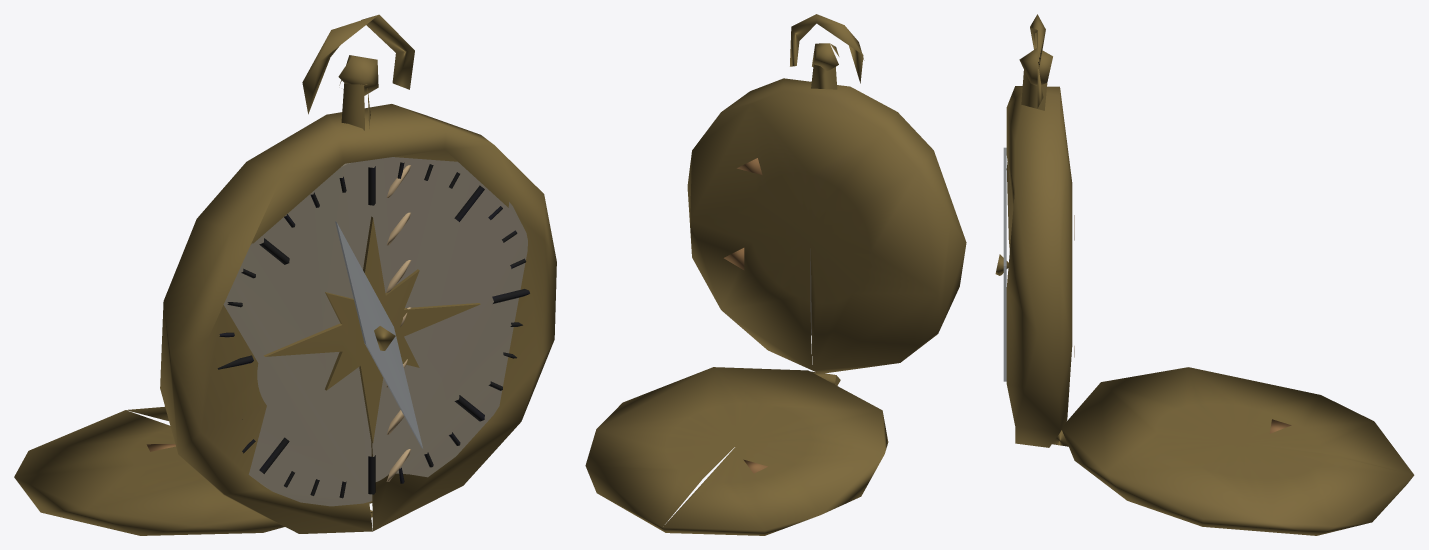
3 views of the same model, side by side, from view 1: azimuth 30°, elevation 25°; view 2: azimuth 150°, elevation 25°; view 3: azimuth 270°, elevation 25° (orthographic). The views are drawn at different scales.
Parts seen in each view (by area): view 1: aged alloy edge, quilted linen lining; view 2: aged alloy edge; view 3: aged alloy edge.
Part boxes in pixels (x1=…): aged alloy edge: x1=14, y1=14, x2=556, y2=535; quilted linen lining: x1=217, y1=157, x2=529, y2=506; aged alloy edge: x1=585, y1=14, x2=966, y2=535; aged alloy edge: x1=995, y1=14, x2=1414, y2=535.
Size of the model in its own units: 0.1312 by 0.1832 by 0.1498.
